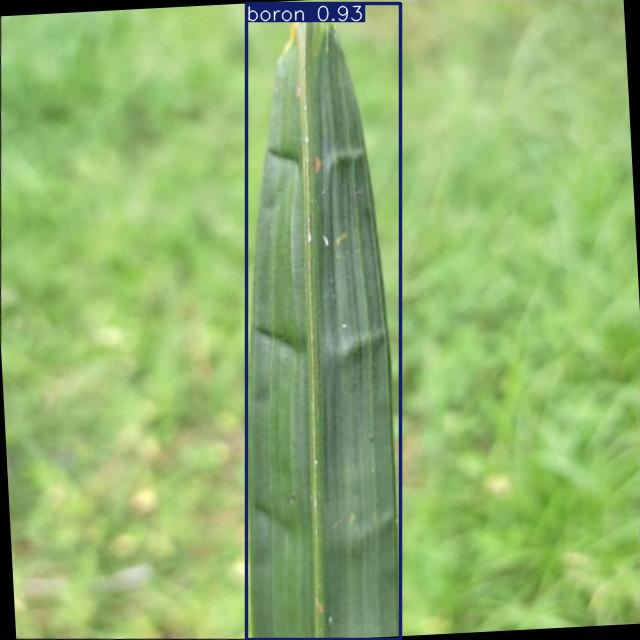nitrogen: (246, 3, 400, 639)
